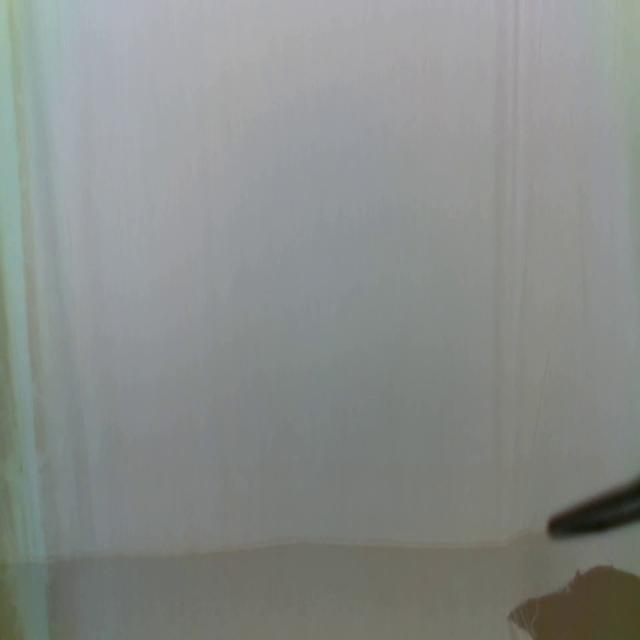color bleeding: (0, 0, 62, 639)
hole: (506, 560, 640, 640)
